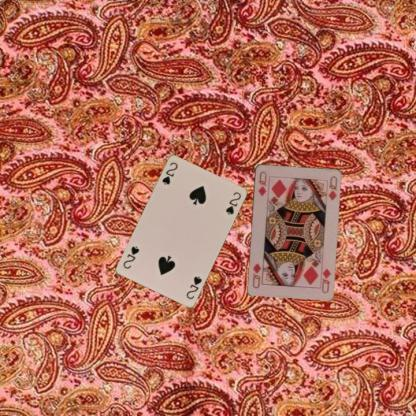2s: (160, 159, 179, 186), (184, 274, 203, 300)
Qd: (317, 264, 332, 294), (256, 169, 268, 197)
